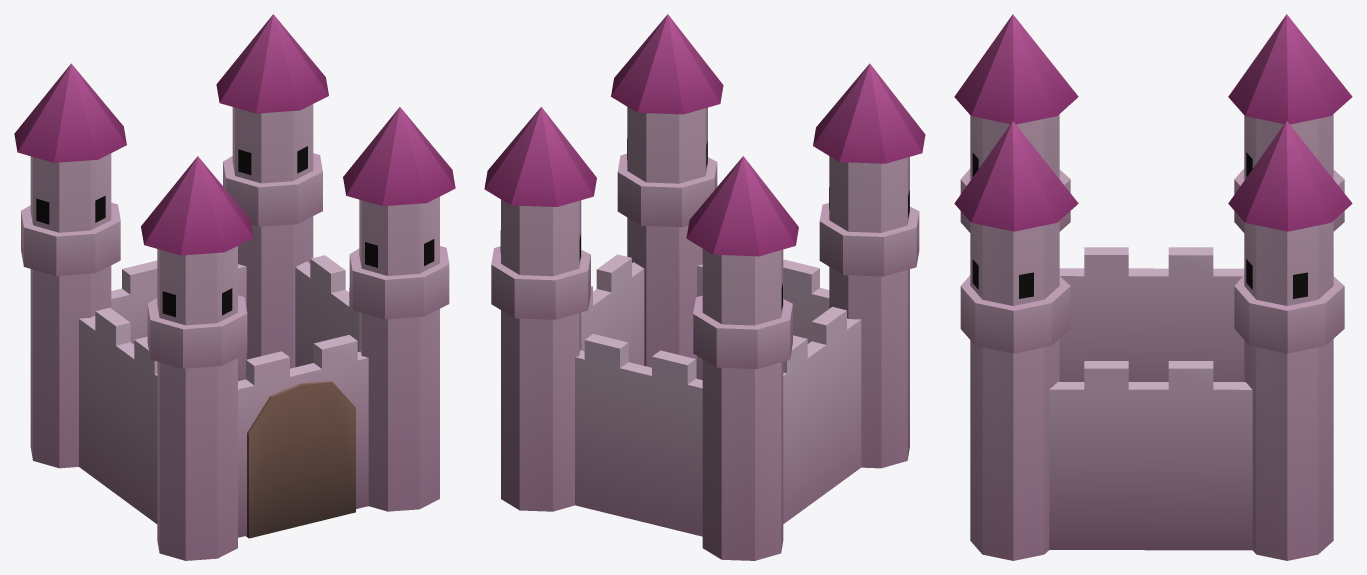
Rendered from castle.fbx.
3 renders of one model, left to right at view 1: azimuth 30°, elevation 25°; view 2: azimuth 150°, elevation 25°; view 3: azimuth 270°, elevation 25°, orthographic. The views are drawn at different scales.
Parts seen in each view (by area): view 1: castle; view 2: castle; view 3: castle.
Boxes of the visible parts, left/top/right/bottom form: castle: left=14, top=14, right=455, bottom=560; castle: left=484, top=14, right=925, bottom=560; castle: left=954, top=14, right=1352, bottom=560.
Bounding box in the file's own units: 2.94 × 3.55 × 3.04.
